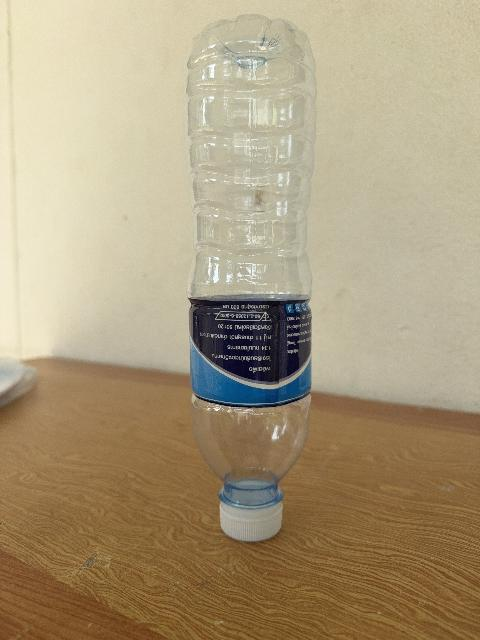bottle: (186, 16, 316, 541)
